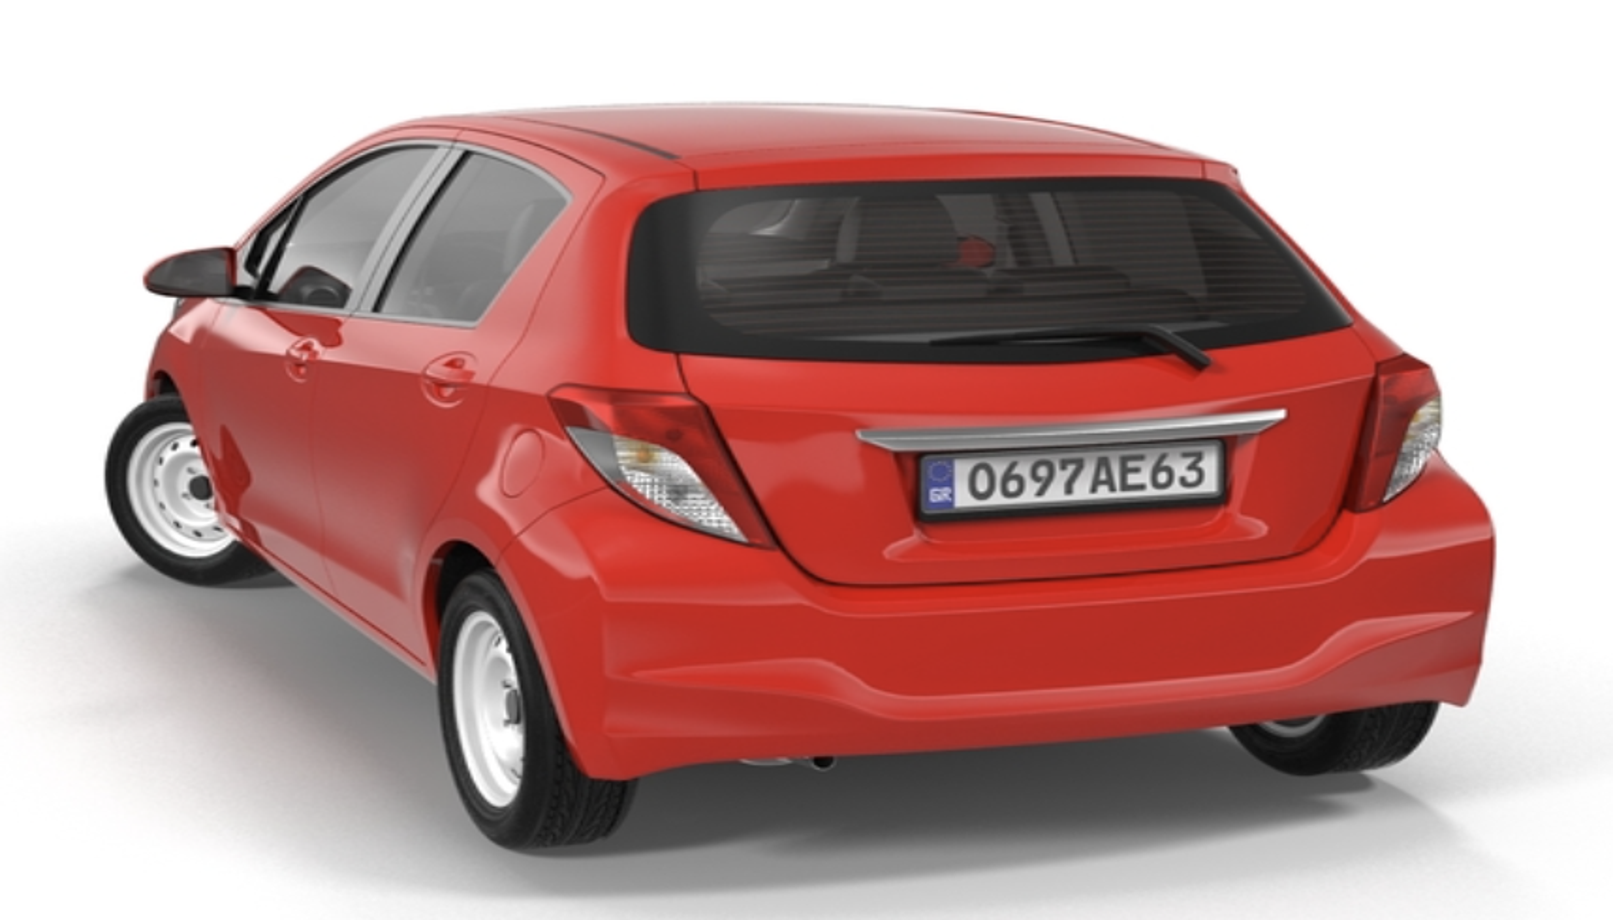hatch: (495, 423, 552, 510)
